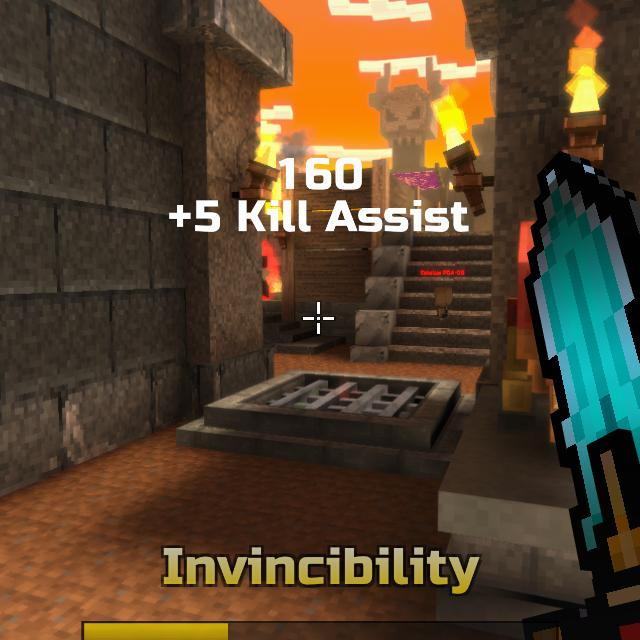Enemy: (263, 256, 272, 297)
